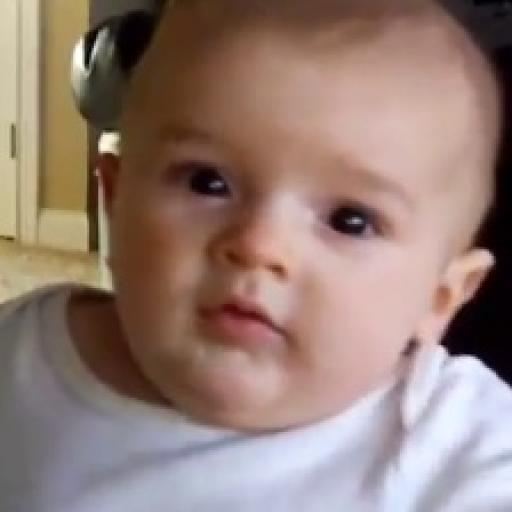Autism: (102, 8, 462, 452)
